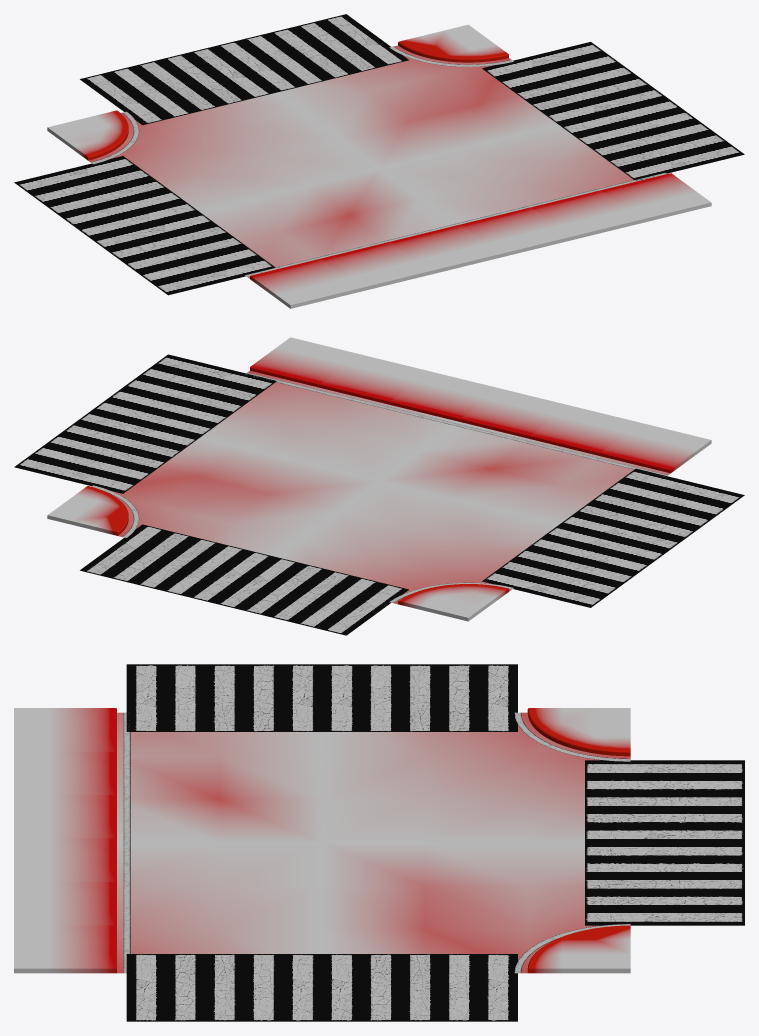
The model's file is Street_TIntersection.gltf.
3 renders of one model, top to bottom at view 1: azimuth 30°, elevation 25°; view 2: azimuth 150°, elevation 25°; view 3: azimuth 270°, elevation 25°, orthographic. The views are drawn at different scales.
Visible parts, largest first — view 1: Street_TIntersection; view 2: Street_TIntersection; view 3: Street_TIntersection.
Part boxes in pixels (left/top/right/bottom): Street_TIntersection: left=14, top=14, right=744, bottom=308; Street_TIntersection: left=14, top=337, right=744, bottom=635; Street_TIntersection: left=14, top=664, right=744, bottom=1021.
Size of what is drawn, in the model's own units: 24.67 by 0.15 by 21.33.
